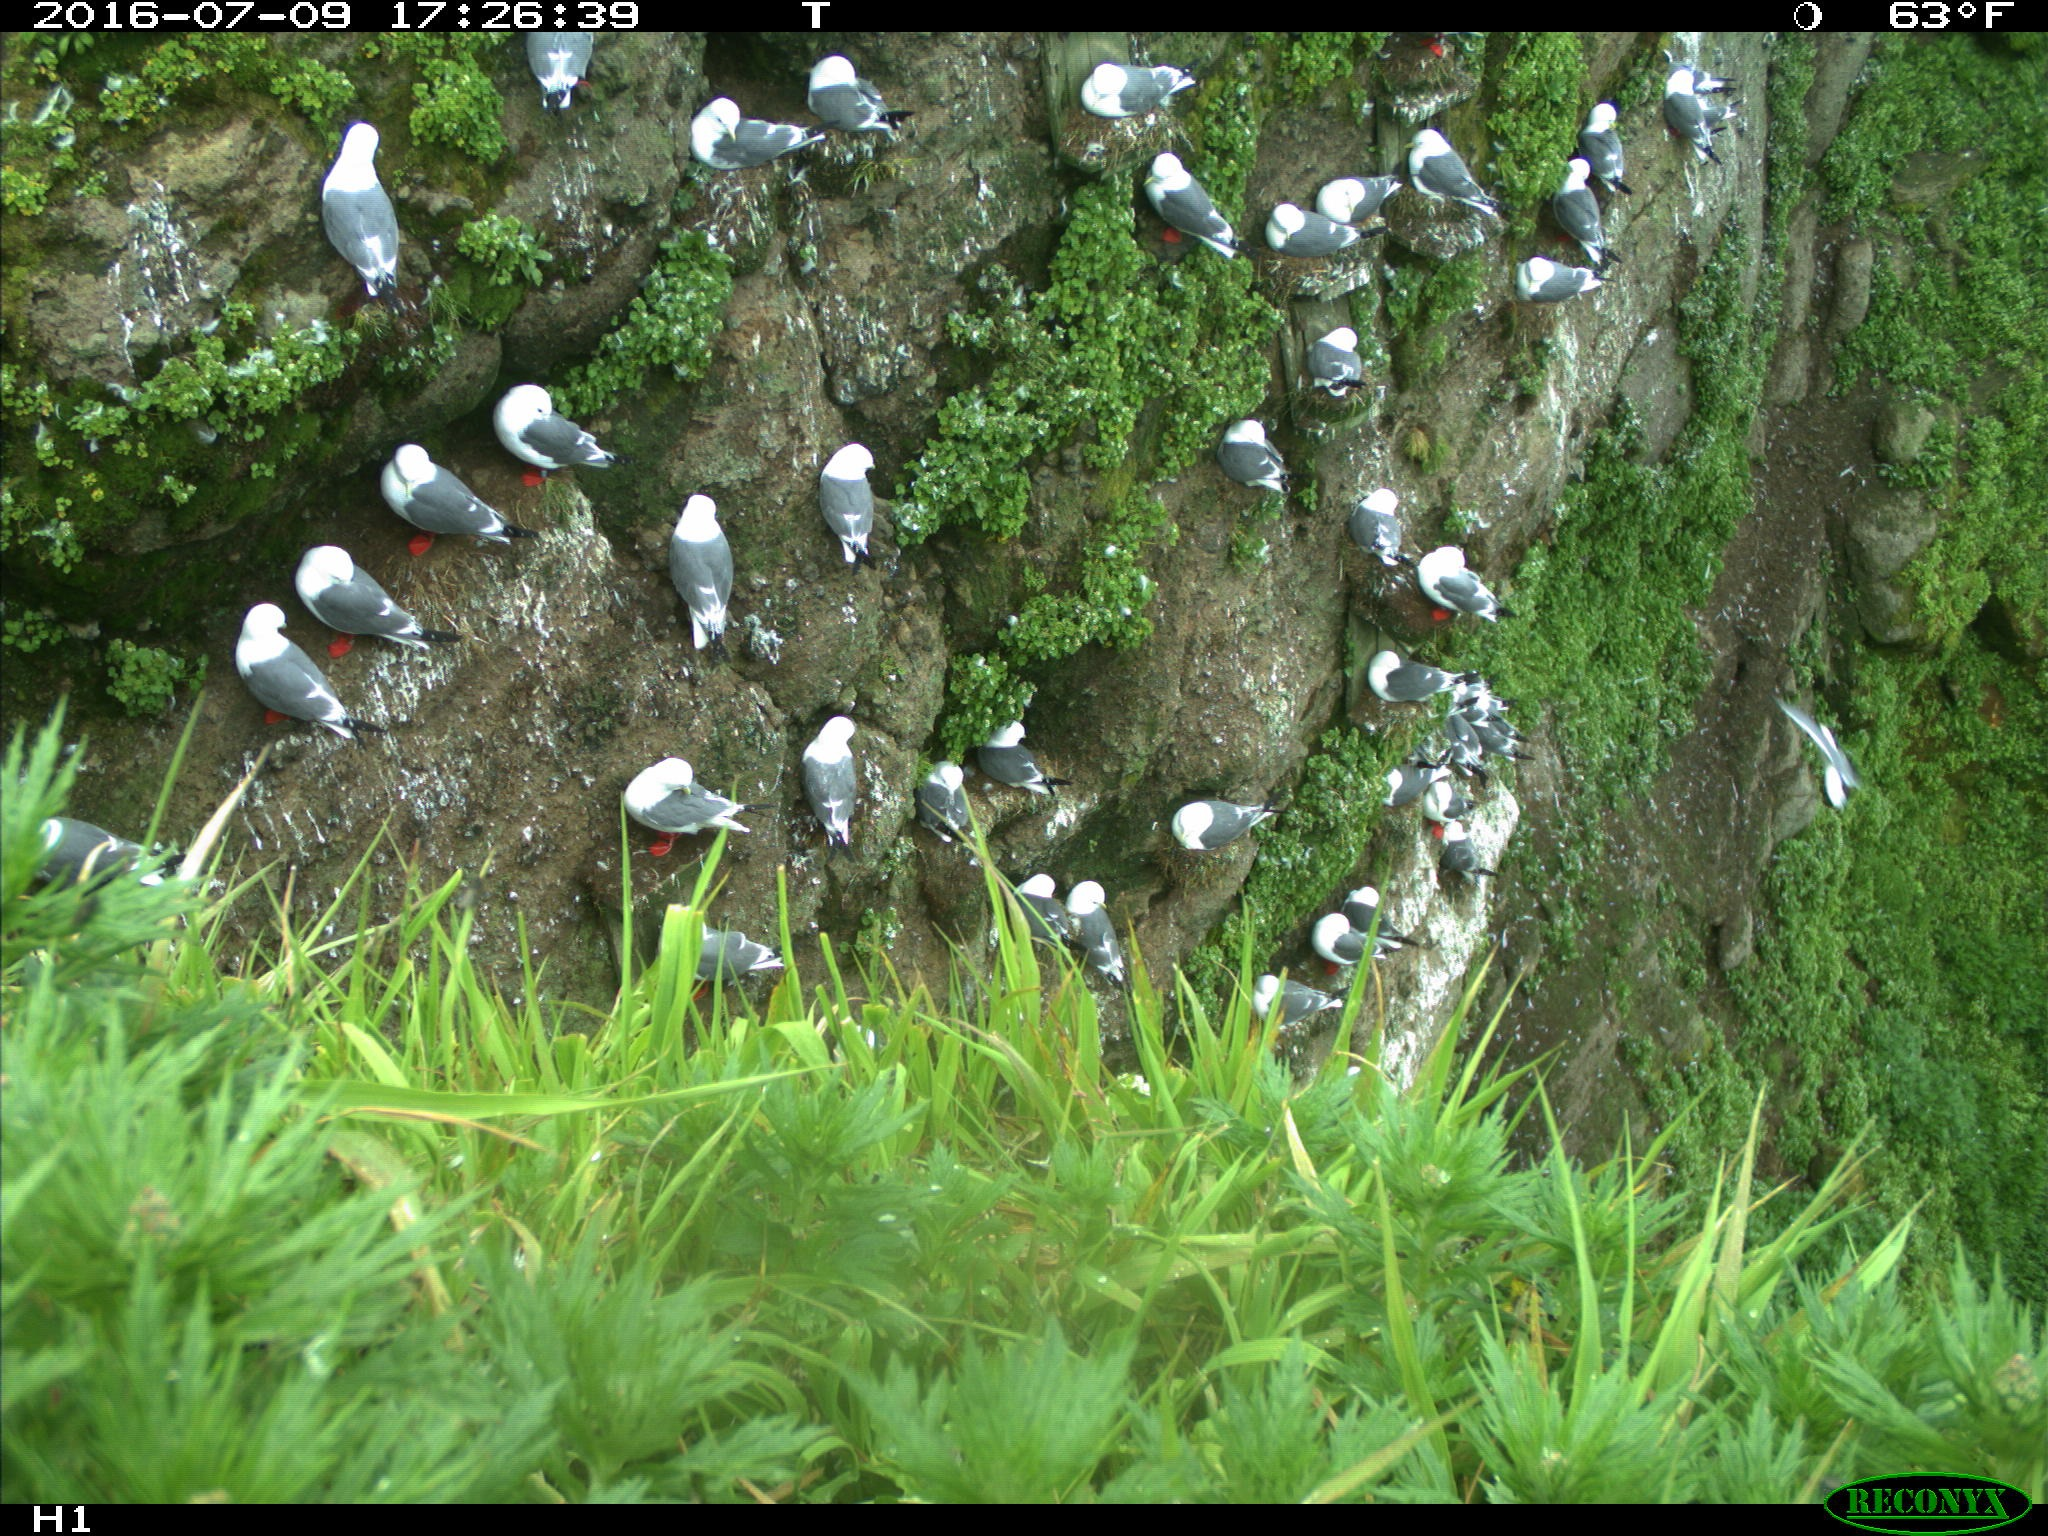Kittiwake: (656, 478, 800, 678), (303, 119, 452, 311), (203, 616, 356, 787), (805, 386, 953, 558), (252, 552, 431, 678), (356, 434, 485, 599), (464, 379, 622, 503), (601, 747, 750, 871), (1129, 131, 1247, 273), (790, 37, 929, 153), (774, 707, 922, 813), (664, 77, 822, 174), (803, 403, 889, 578), (1337, 616, 1485, 716), (1400, 529, 1505, 665), (1059, 40, 1201, 129), (963, 692, 1079, 799), (1213, 381, 1300, 515), (1321, 479, 1472, 555), (510, 19, 613, 131), (1387, 131, 1529, 211), (1072, 828, 1156, 963), (1161, 779, 1287, 868), (1258, 186, 1379, 274), (1343, 868, 1455, 962), (1253, 949, 1363, 1042), (1500, 242, 1629, 319), (1571, 103, 1663, 211), (1301, 315, 1392, 424), (1658, 61, 1746, 173), (995, 855, 1089, 958), (905, 750, 984, 850), (1297, 158, 1401, 232), (1292, 895, 1384, 979), (1543, 150, 1605, 271), (1393, 774, 1513, 829), (39, 802, 127, 873), (1421, 818, 1501, 895)
